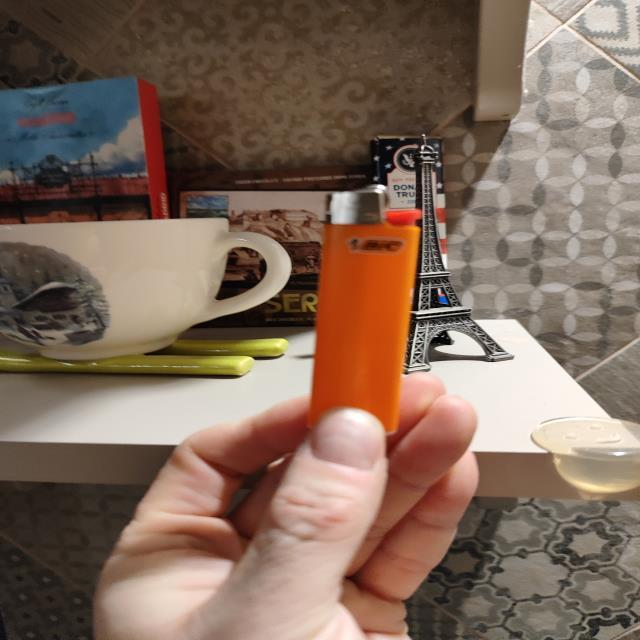lighter: (310, 185, 419, 431)
